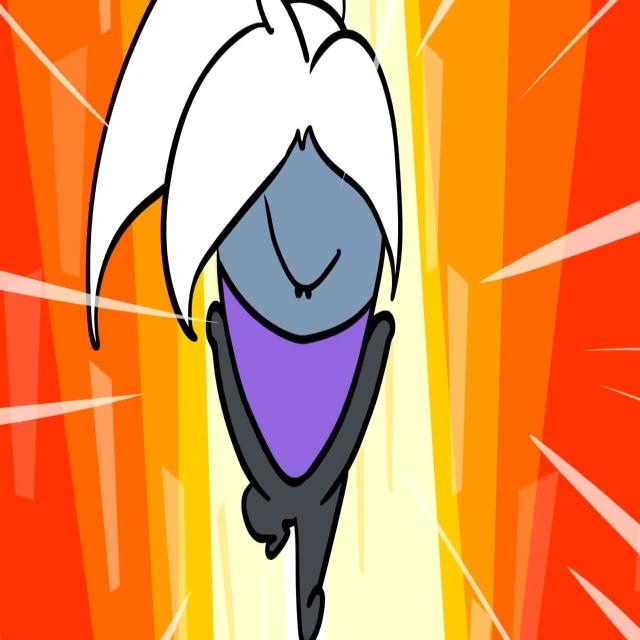miss Demeanor: (80, 3, 406, 640)
